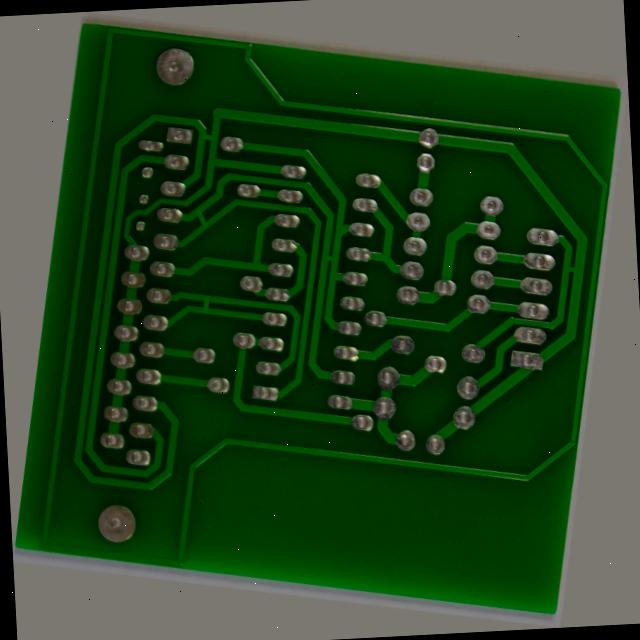short: (581, 198, 616, 225), (152, 209, 177, 246), (139, 120, 170, 147), (174, 310, 195, 338), (307, 236, 332, 257)
